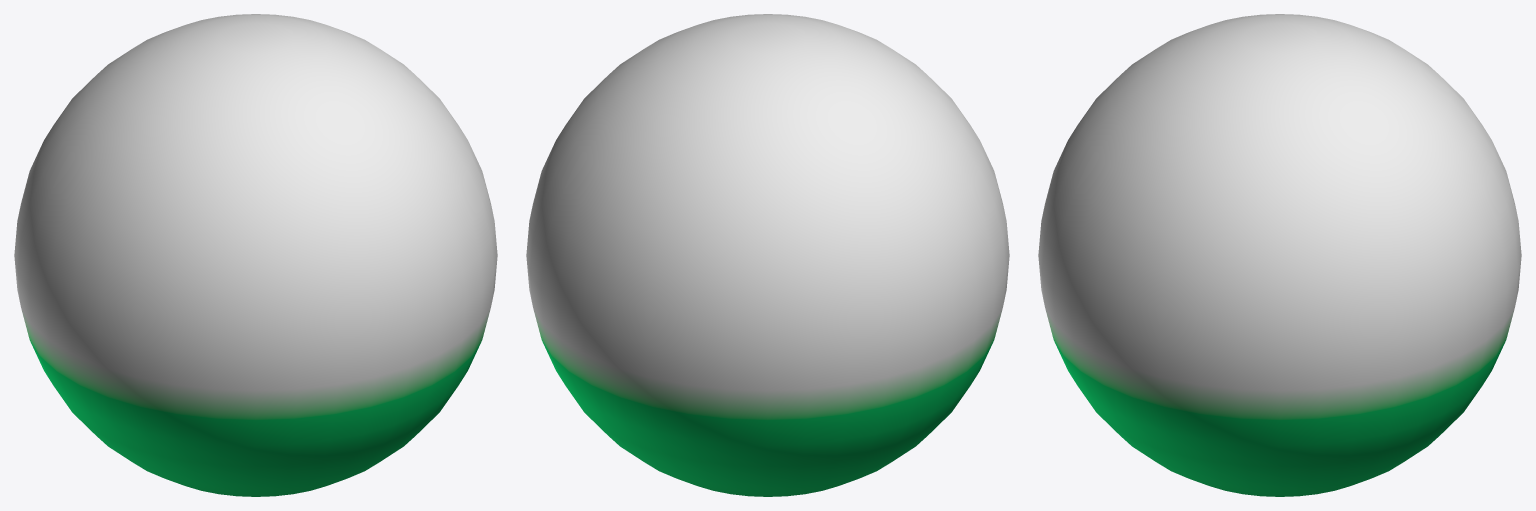
Rendered from sky_yoshi_go_round.glb.
The picture shows the model from 3 angles, left to right: view 1: azimuth 30°, elevation 25°; view 2: azimuth 150°, elevation 25°; view 3: azimuth 270°, elevation 25°; orthographic projection.
Parts seen in each view (by area): view 1: SkyMesh; view 2: SkyMesh; view 3: SkyMesh.
Boxes of the visible parts, x1=… form: SkyMesh: x1=14, y1=14, x2=497, y2=496; SkyMesh: x1=526, y1=14, x2=1009, y2=496; SkyMesh: x1=1038, y1=14, x2=1521, y2=496.
Size of the model in its own units: 180000 by 177784 by 180000.
